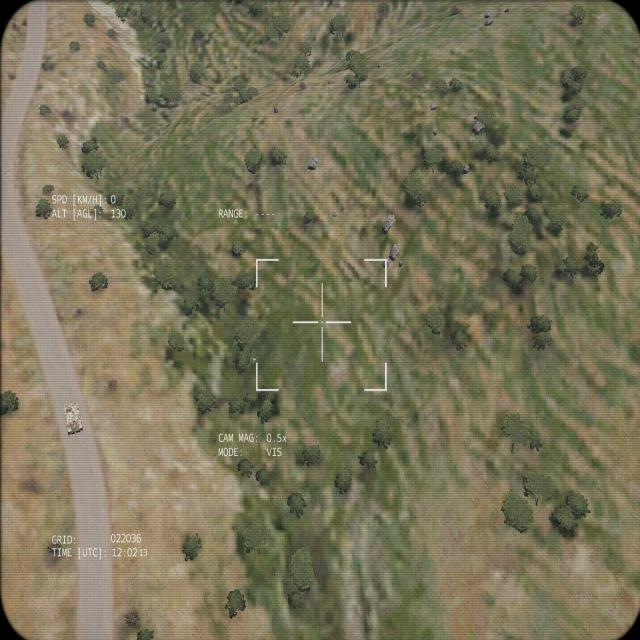tank: (62, 398, 84, 445)
